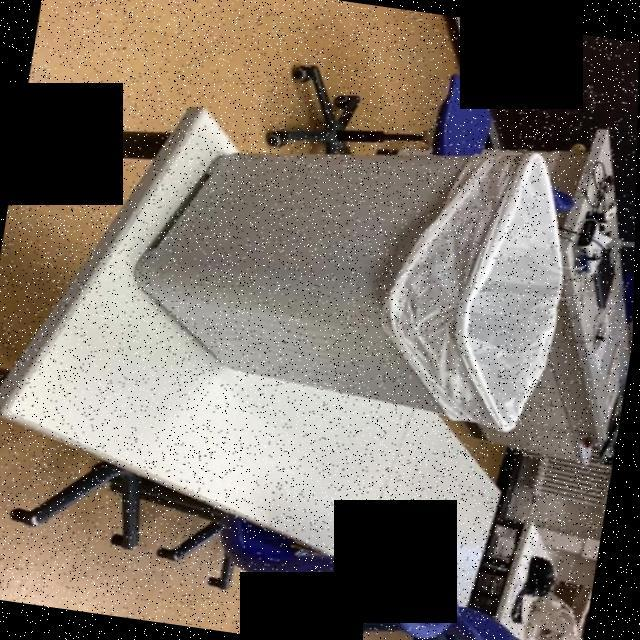bin: (98, 69, 626, 451)
